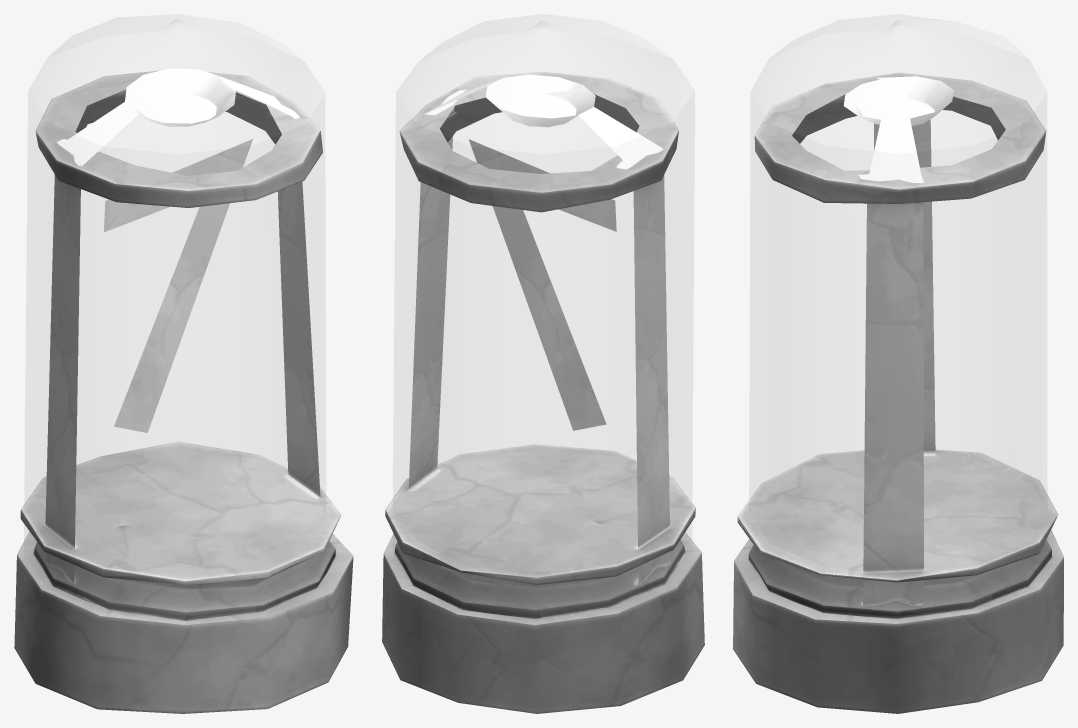
Rendered from obj_num07_hard.gltf.
3 views of the same model, side by side, from view 1: azimuth 30°, elevation 25°; view 2: azimuth 150°, elevation 25°; view 3: azimuth 270°, elevation 25° (orthographic).
Visible parts, largest first — view 1: obj_num07_hard, obj_num07_hard_glass; view 2: obj_num07_hard, obj_num07_hard_glass; view 3: obj_num07_hard, obj_num07_hard_glass.
Boxes of the visible parts, <box> form: obj_num07_hard: <box>14,68,353,713</box>; obj_num07_hard_glass: <box>24,14,325,555</box>; obj_num07_hard: <box>382,71,704,713</box>; obj_num07_hard_glass: <box>393,14,694,552</box>; obj_num07_hard: <box>733,72,1063,713</box>; obj_num07_hard_glass: <box>749,14,1046,549</box>.
Size of what is drawn, in the model's own units: 0.3415 by 0.7171 by 0.3439.
2 materials, 1 textured.
